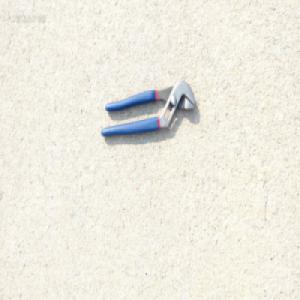Pliers: (100, 78, 196, 138)
